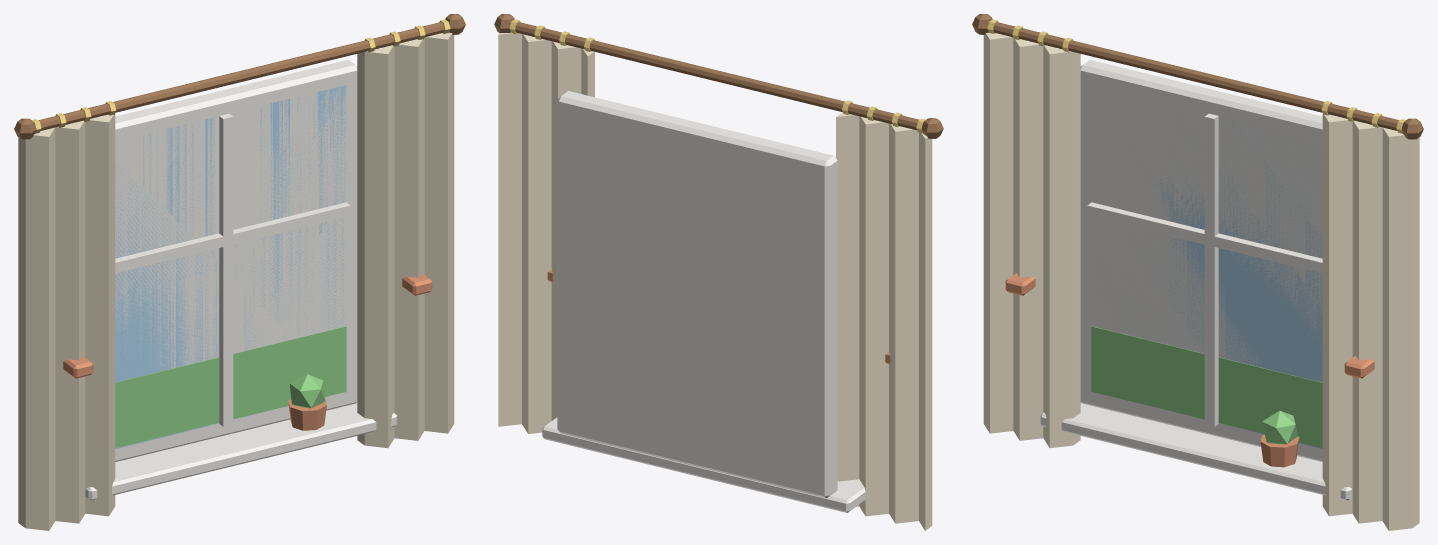
File: prop_curtain_01.glb
The picture shows the model from 3 angles, left to right: view 1: azimuth 30°, elevation 25°; view 2: azimuth 150°, elevation 25°; view 3: azimuth 330°, elevation 25°; orthographic projection.
Parts seen in each view (by area): view 1: prop_curtain_01_body; view 2: prop_curtain_01_body; view 3: prop_curtain_01_body.
Boxes of the visible parts, left/top/right/bottom form: prop_curtain_01_body: left=14, top=14, right=465, bottom=530; prop_curtain_01_body: left=494, top=14, right=943, bottom=530; prop_curtain_01_body: left=972, top=14, right=1423, bottom=530.
Bounding box in the file's own units: 1.79 × 1.57 × 0.29.
